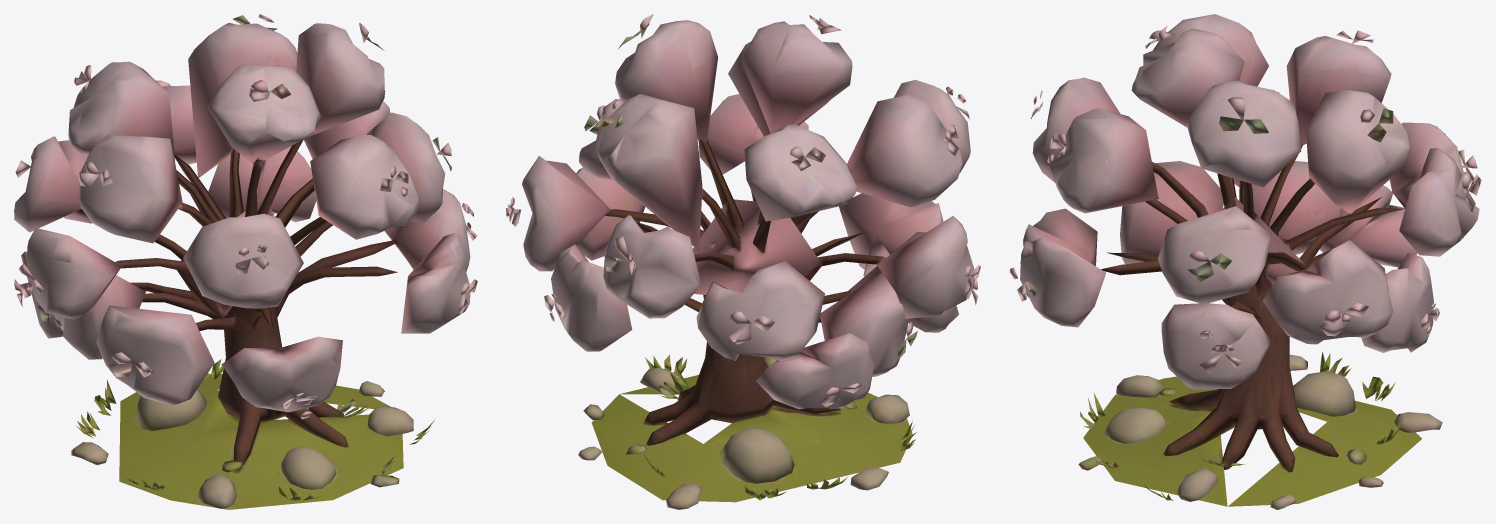
The model's file is blossom.glb.
3 views of the same model, side by side, from view 1: azimuth 30°, elevation 25°; view 2: azimuth 150°, elevation 25°; view 3: azimuth 270°, elevation 25° (orthographic).
Parts seen in each view (by area): view 1: tripo_node_63214180-c5f9-40c1-aa2a-f772dea92b39; view 2: tripo_node_63214180-c5f9-40c1-aa2a-f772dea92b39; view 3: tripo_node_63214180-c5f9-40c1-aa2a-f772dea92b39.
Part boxes in pixels (x1,y1,x2,y2): tripo_node_63214180-c5f9-40c1-aa2a-f772dea92b39: (14, 14, 477, 509); tripo_node_63214180-c5f9-40c1-aa2a-f772dea92b39: (506, 14, 980, 509); tripo_node_63214180-c5f9-40c1-aa2a-f772dea92b39: (1009, 14, 1481, 509).
Size of the model in its own units: 0.998 by 0.8886 by 0.9511.
Materials: 1 (1 with a texture image).
